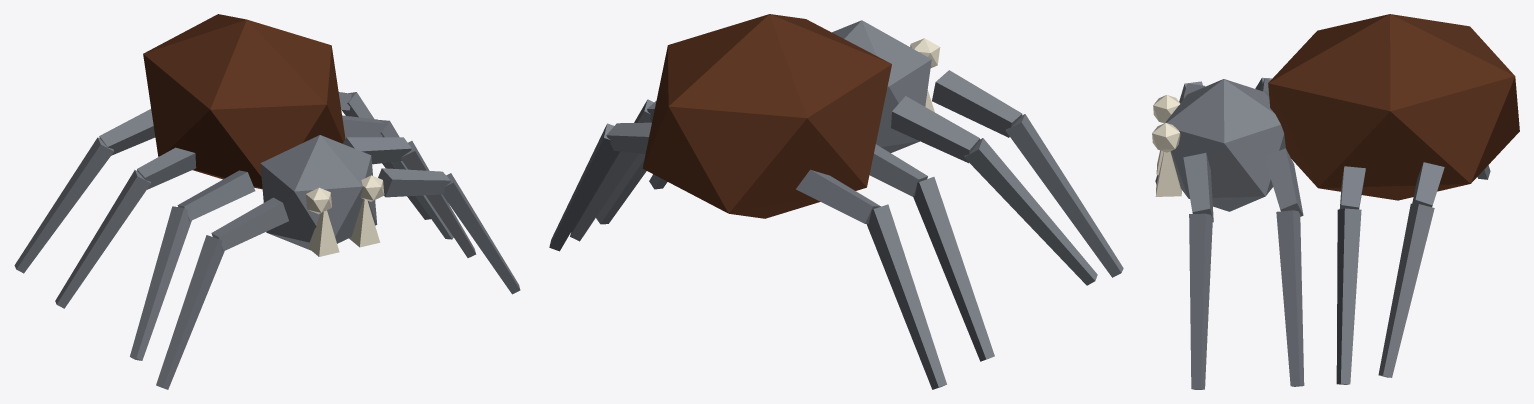
The model's file is npcpose_spider_walk_03.glb.
3 views of the same model, side by side, from view 1: azimuth 30°, elevation 25°; view 2: azimuth 150°, elevation 25°; view 3: azimuth 270°, elevation 25° (orthographic). The views are drawn at different scales.
Visible parts, largest first — view 1: npcpose; view 2: npcpose; view 3: npcpose.
Part boxes in pixels (x1,y1,x2,y2): npcpose: [14, 14, 520, 389]; npcpose: [549, 14, 1123, 389]; npcpose: [1152, 14, 1519, 389].
Bounding box in the file's own units: 1.33 × 0.8426 × 1.
